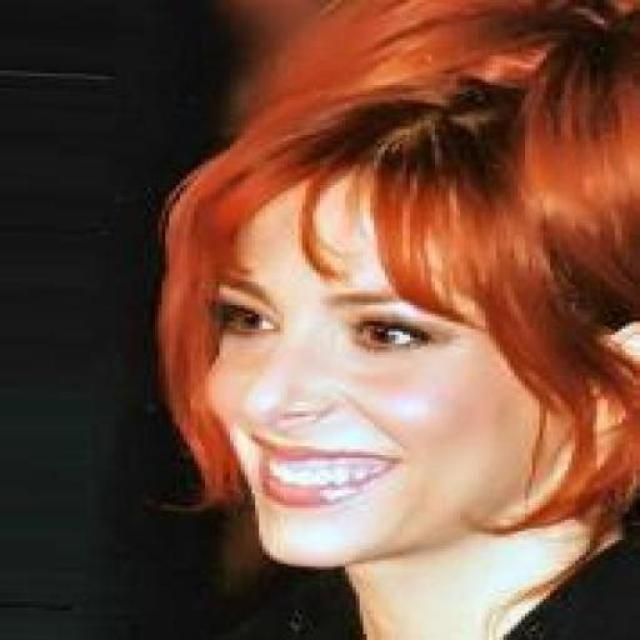bareface: (190, 127, 610, 572)
